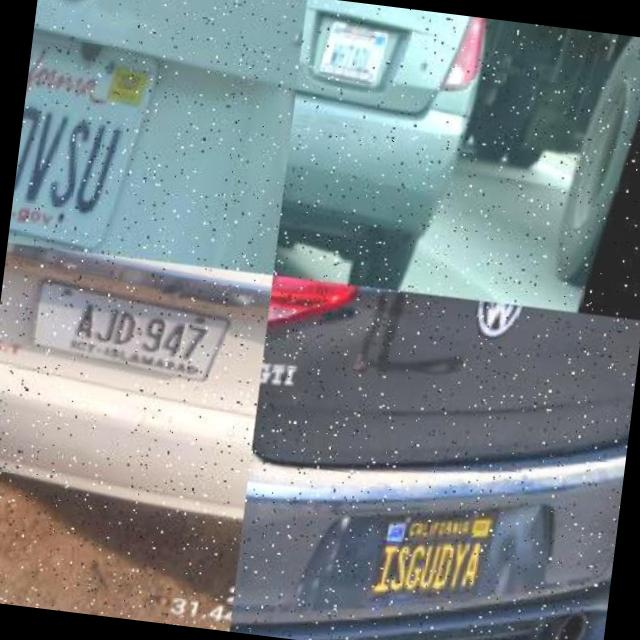LicensePlate: (1, 255, 260, 412), (7, 9, 168, 258), (367, 488, 512, 633), (317, 17, 399, 96)
